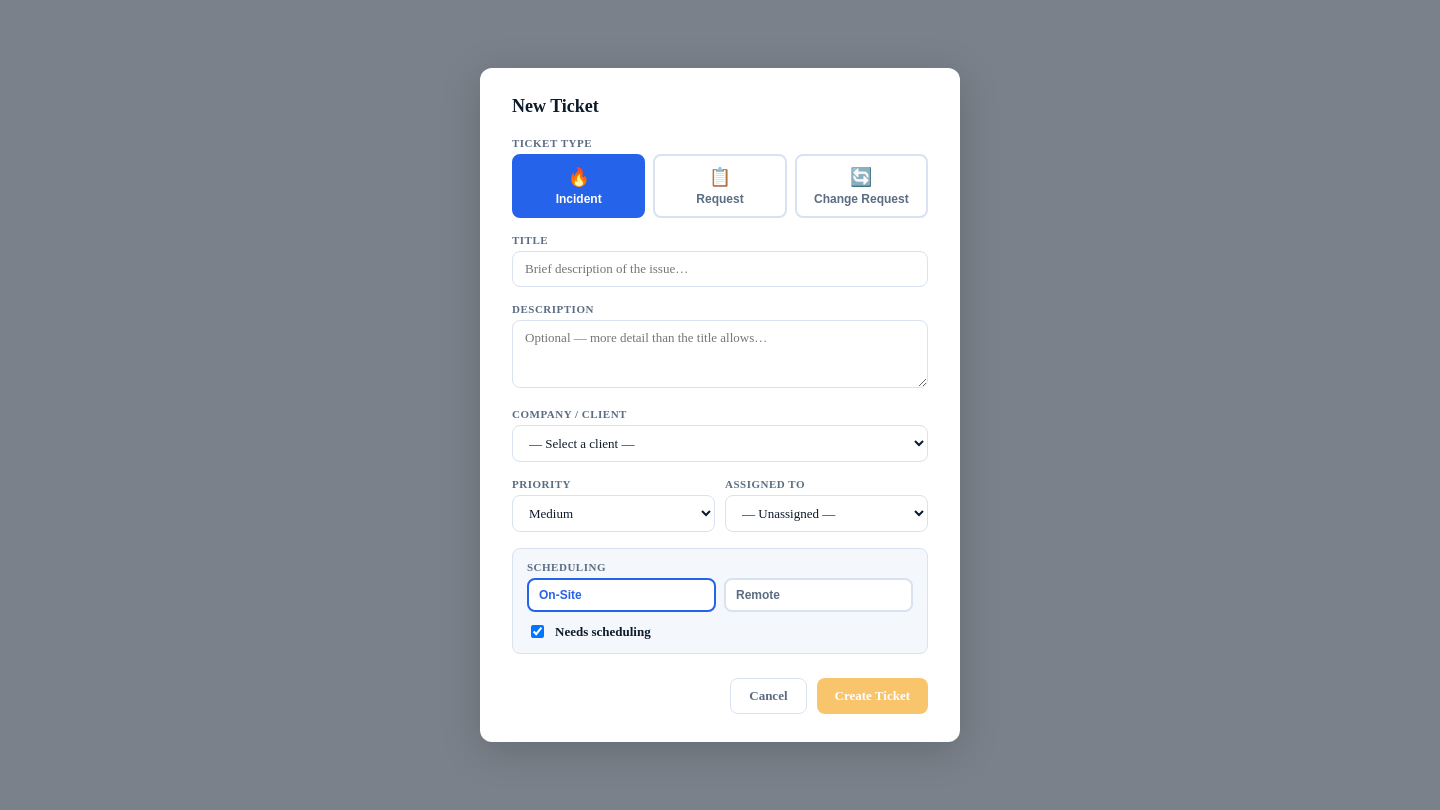
Test: Create Ticket is disabled until a title is entered
Expected: the button "Create Ticket" is disabled, [816, 678, 928, 714]
Type "Something broke" into the field with placeholder "Brief description of the issue…" at (720, 269), box [512, 251, 928, 287]
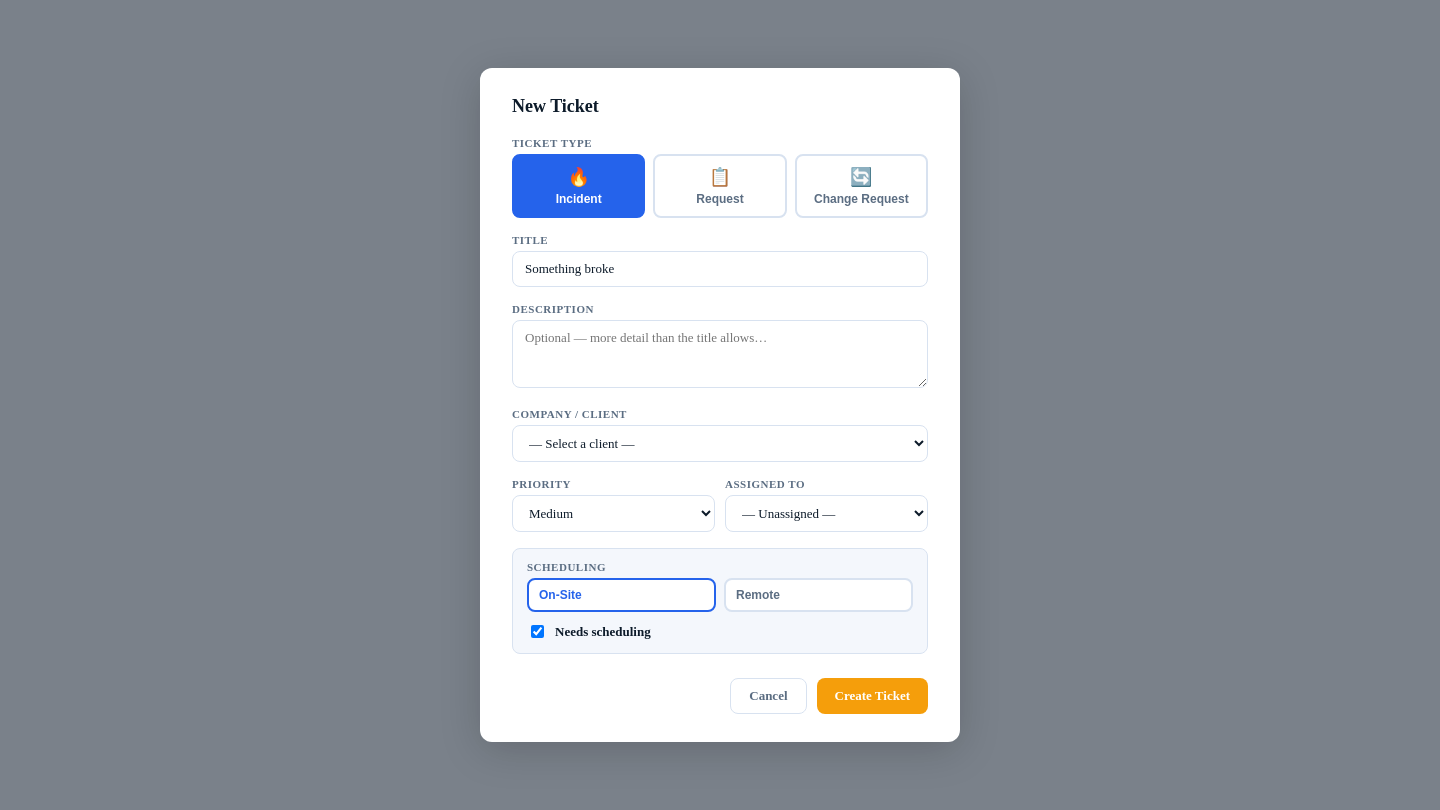
Expected: the button "Create Ticket" is enabled, [816, 678, 928, 714]
